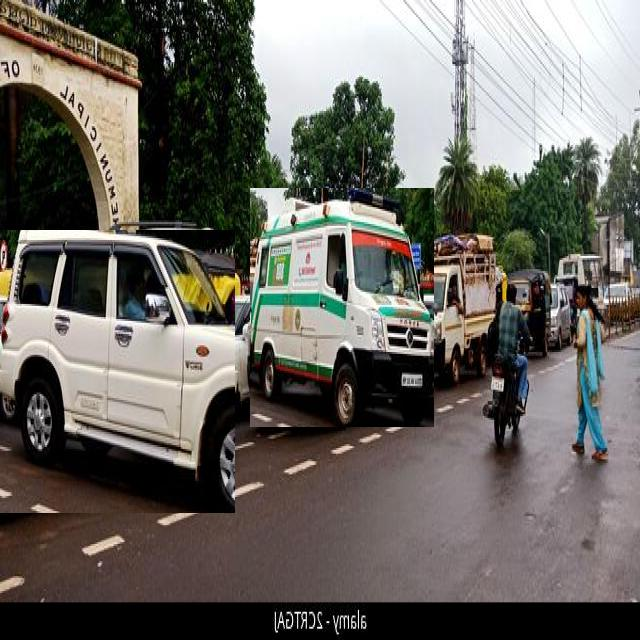autorickshaw: (509, 271, 550, 354)
car: (0, 230, 235, 513)
emergency: (250, 188, 434, 427)
motorcycle: (482, 282, 531, 448)
truck: (426, 235, 496, 380)
